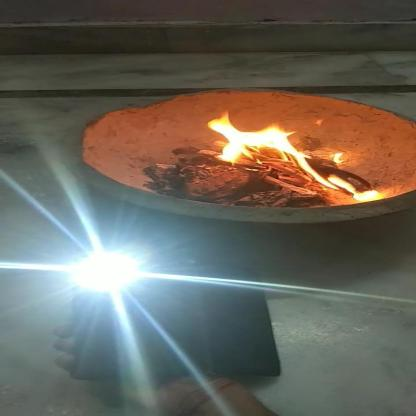fire: (197, 107, 314, 170), (316, 150, 384, 201)
